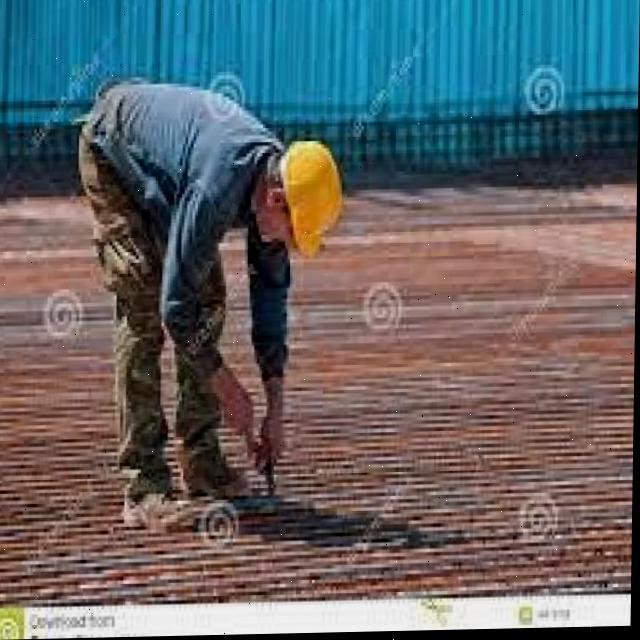Helmet: (277, 139, 345, 261)
No-Glove: (256, 410, 299, 473), (213, 373, 251, 440)
Safety-Boot: (122, 490, 189, 532)
Safety-Vest: (83, 77, 288, 351)
